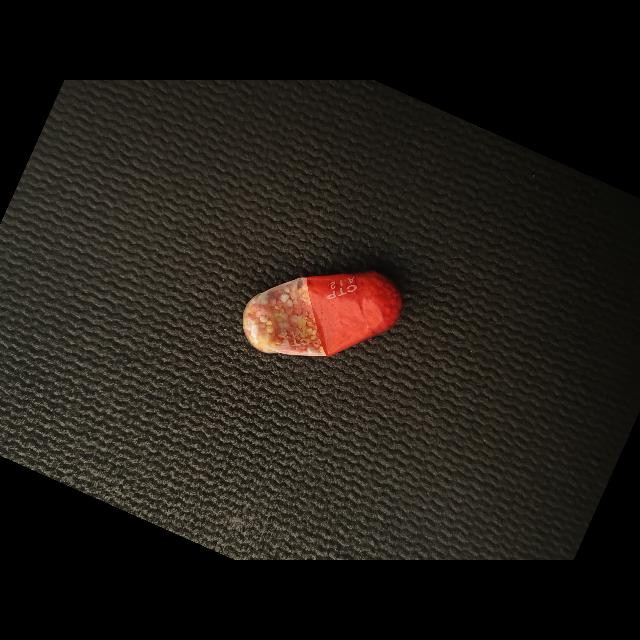Defective Capsule: (242, 271, 402, 357)
